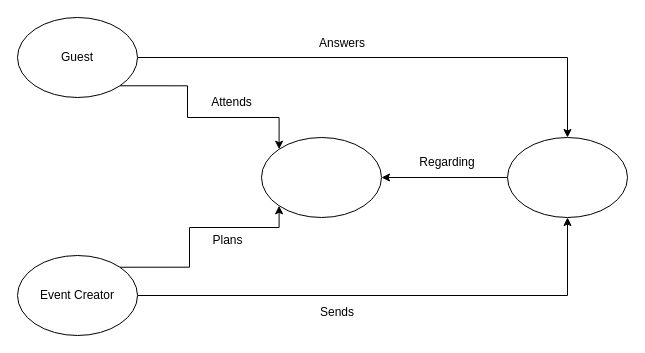
Some shapes in this 645 by 353 pixel diagram are drawn without their labels. Each missing label, with the centre of its shape:
Event: [321,177]
Invitation: [567,177]
